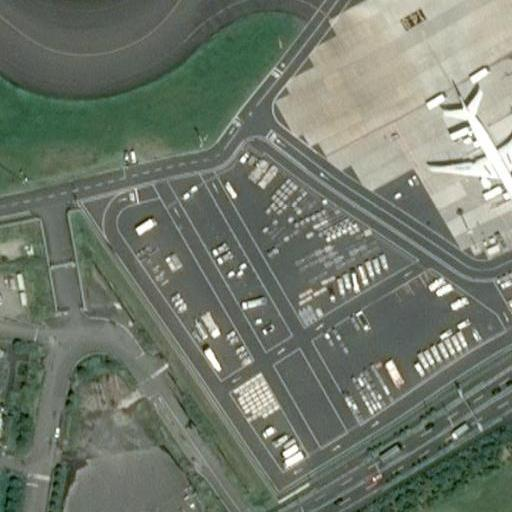Aircraft: (423, 94, 512, 215)
